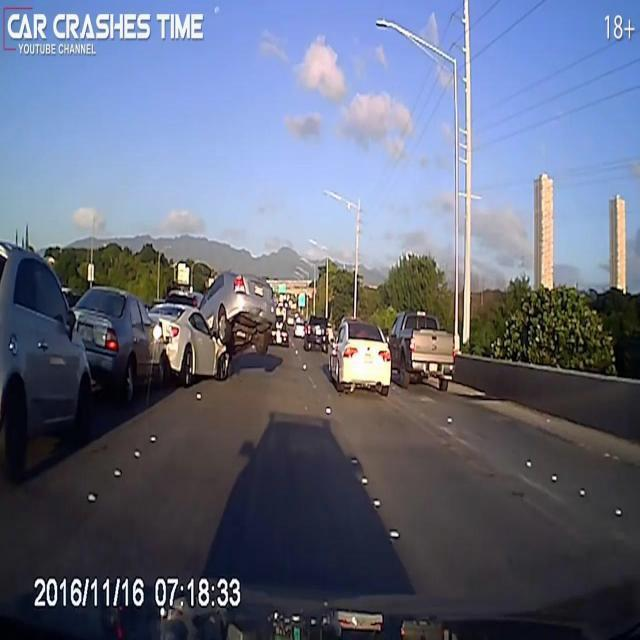severe: (164, 267, 278, 385)
